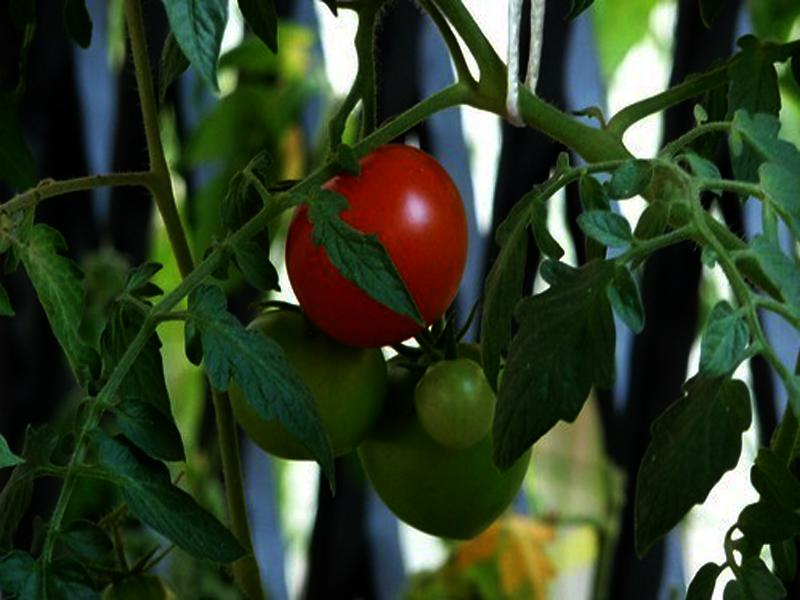Tomato: (285, 142, 468, 344)
